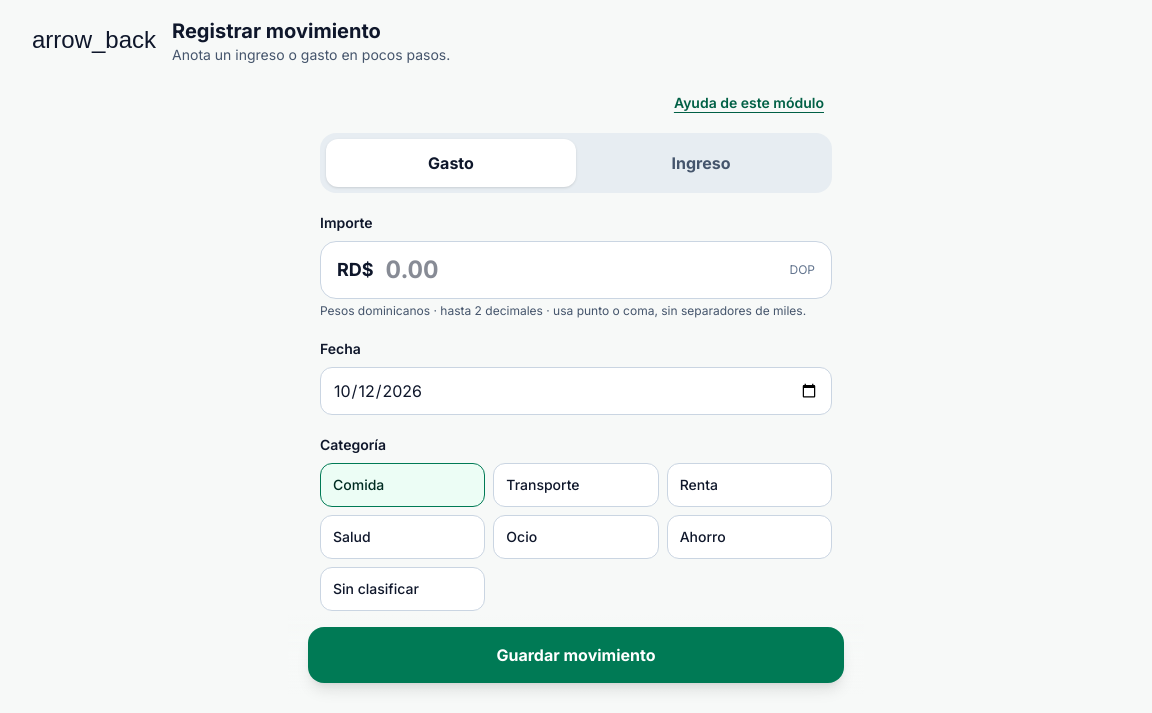
Scenario: QuickAddTransaction › rejects ambiguous separators and keeps the entered amount after validation errors
Type "1,234" into the field labelled "Importe" at (582, 270), box x1=386 y1=254 x2=778 y2=286
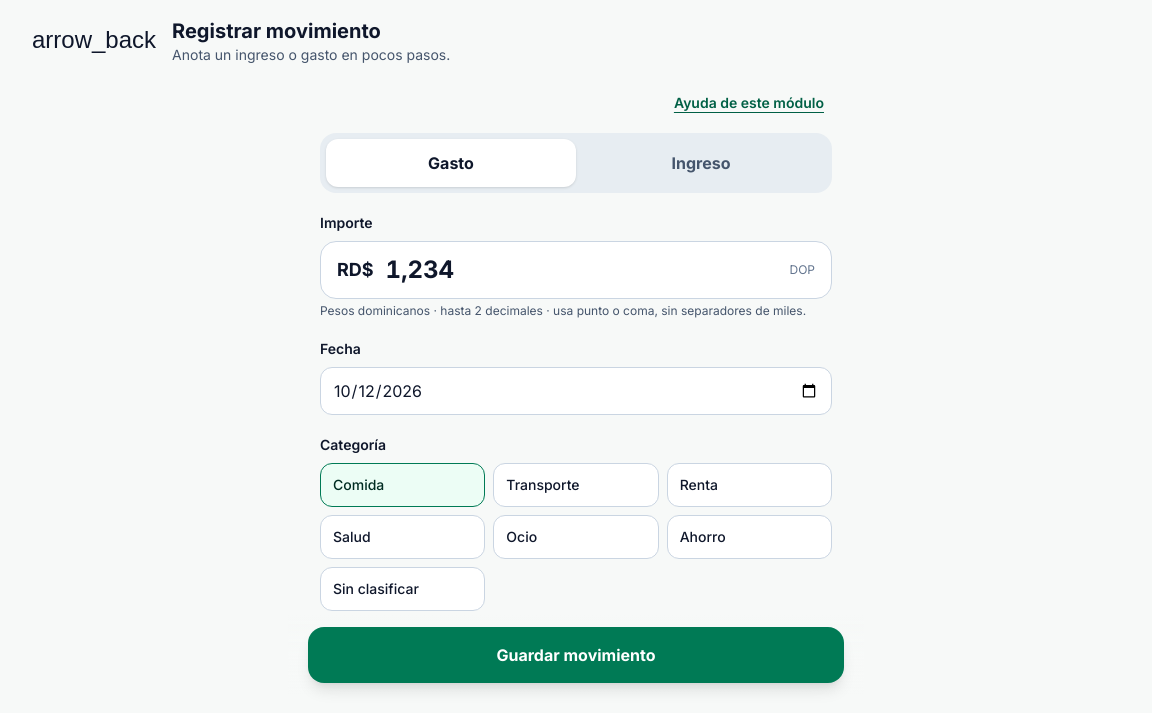
Click the button "Guardar movimiento" at (576, 655), box x1=308 y1=627 x2=844 y2=683
(page scrolled)
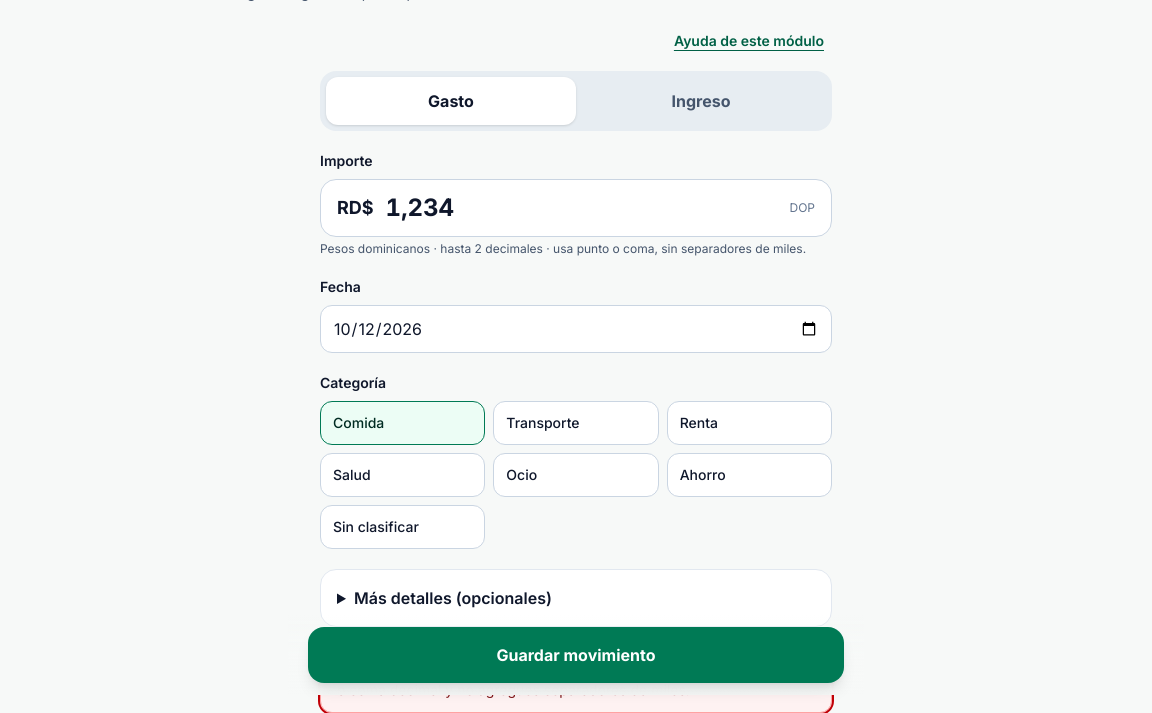
Expected: the message is shown, x1=320 y1=647 x2=832 y2=712
